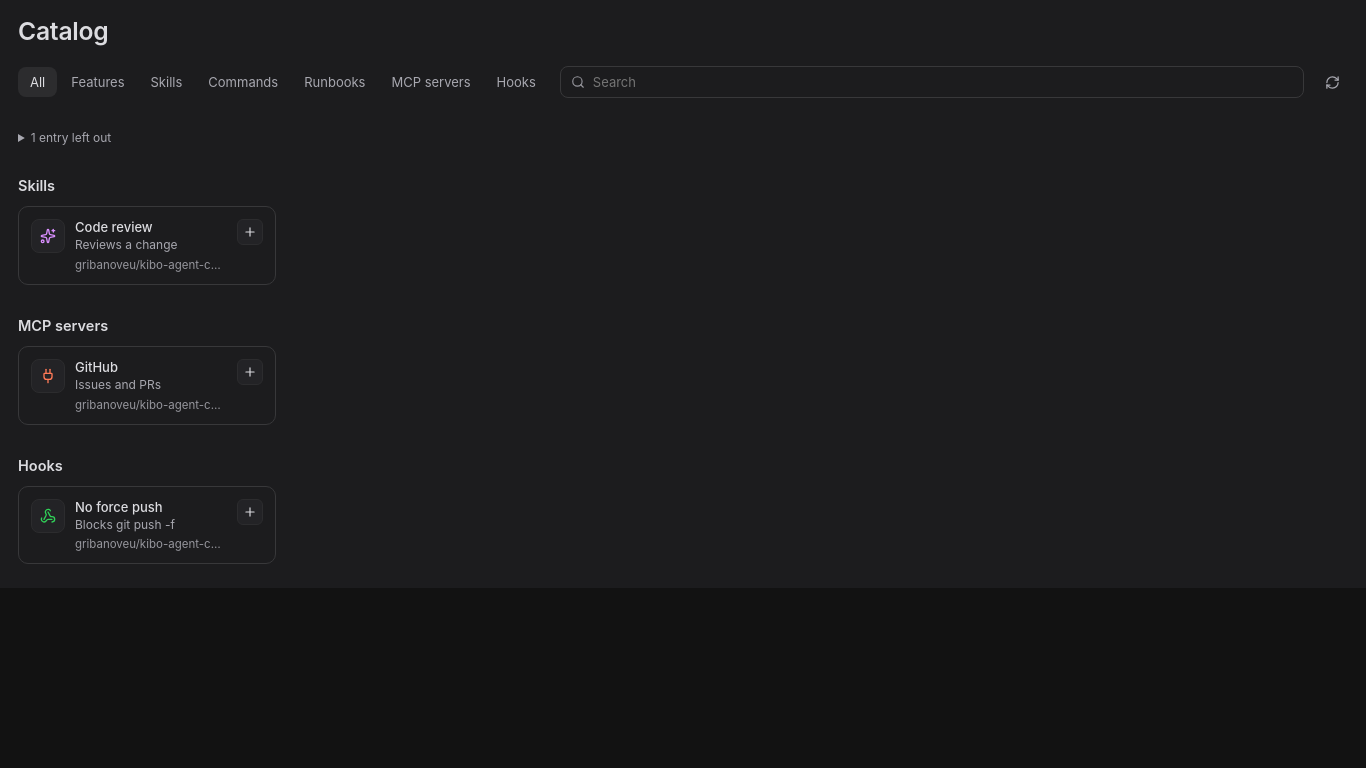
Test: the catalog page › a tab lists one kind
Expected: the heading "Code review" is shown, 75,219 -> 153,235
Click the tab "MCP servers". click: (431, 82)
box: 380,67 -> 483,97
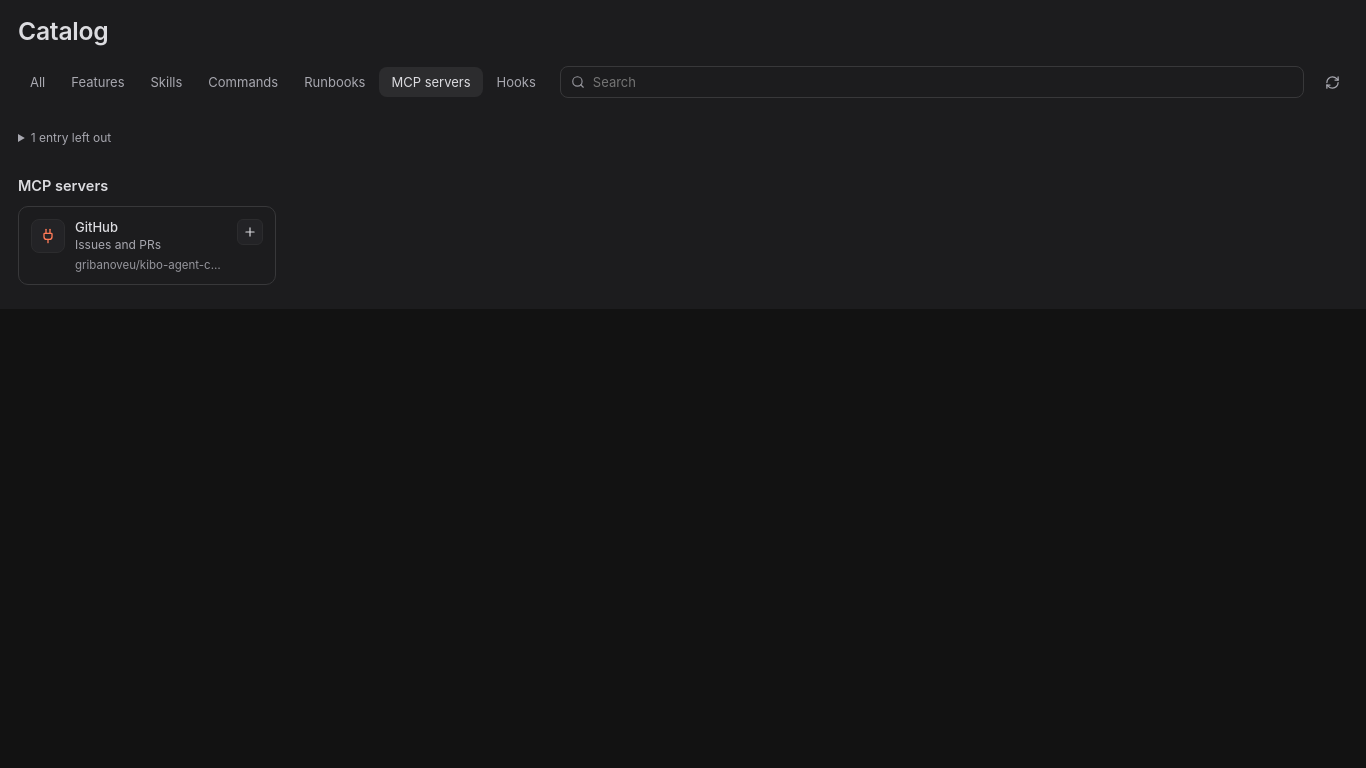
Expected: the heading "GitHub" is shown, 75,219 -> 118,235
Expected: the button "Code review" is gone
